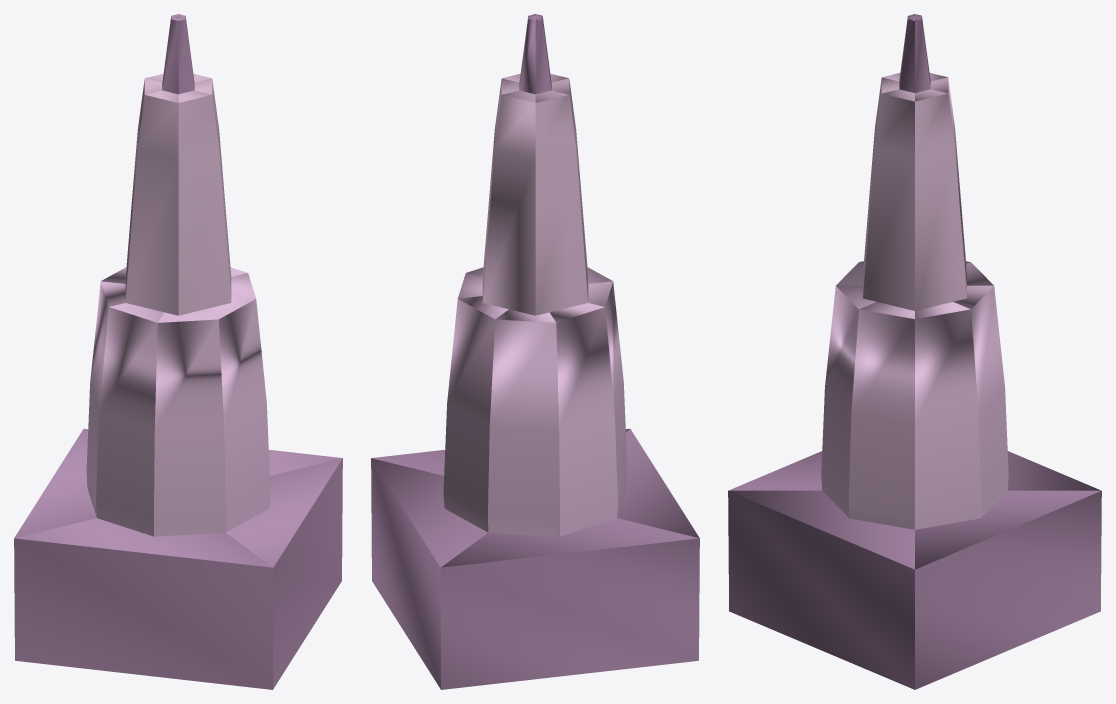
File: Skyscraper3.fbx
The picture shows the model from 3 angles, left to right: view 1: azimuth 30°, elevation 25°; view 2: azimuth 150°, elevation 25°; view 3: azimuth 270°, elevation 25°; orthographic projection.
Visible parts, largest first — view 1: skyscraper4; view 2: skyscraper4; view 3: skyscraper4.
Boxes of the visible parts, <box> form: skyscraper4: <box>14,14,342,689</box>; skyscraper4: <box>371,14,699,689</box>; skyscraper4: <box>728,14,1101,689</box>.
Bounding box in the file's own units: 28455 × 49893 × 28455.
